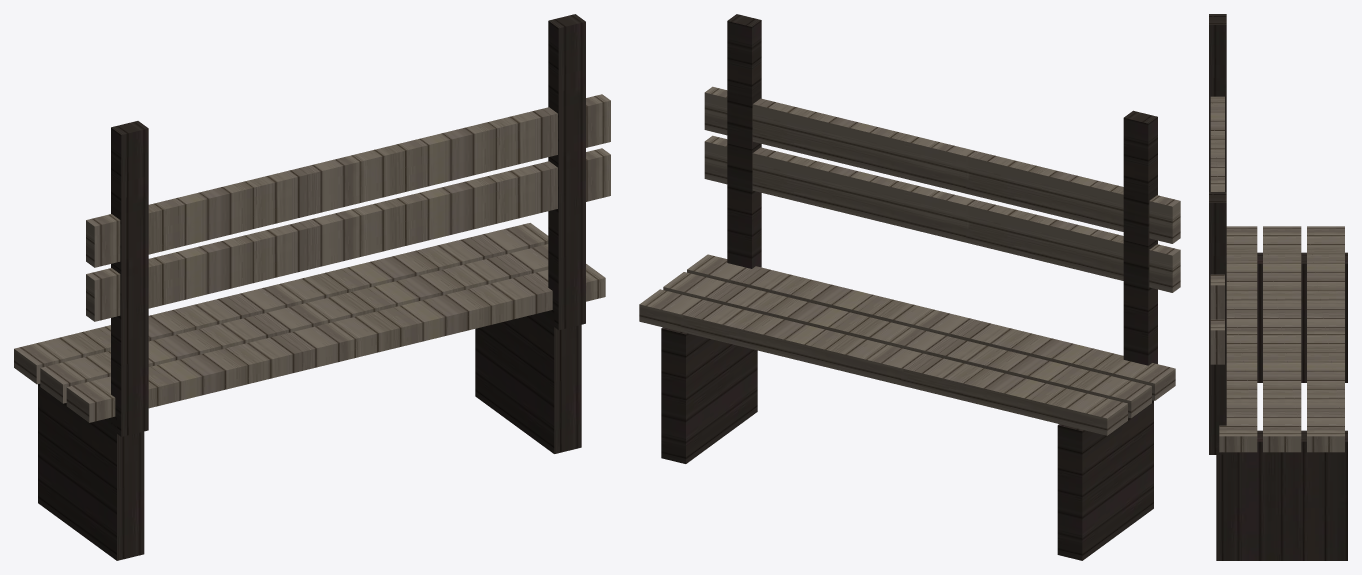
The model's file is bench_01.glb.
3 renders of one model, left to right at view 1: azimuth 30°, elevation 25°; view 2: azimuth 150°, elevation 25°; view 3: azimuth 270°, elevation 25°, orthographic. The views are drawn at different scales.
Visible parts, largest first — view 1: bench_01; view 2: bench_01; view 3: bench_01.
Boxes of the visible parts, left/top/right/bottom form: bench_01: left=14, top=14, right=610, bottom=560; bench_01: left=639, top=14, right=1180, bottom=560; bench_01: left=1209, top=14, right=1347, bottom=560.
Size of the model in its own units: 1.7 by 1.35 by 0.4751.
2 materials, 2 textured.
